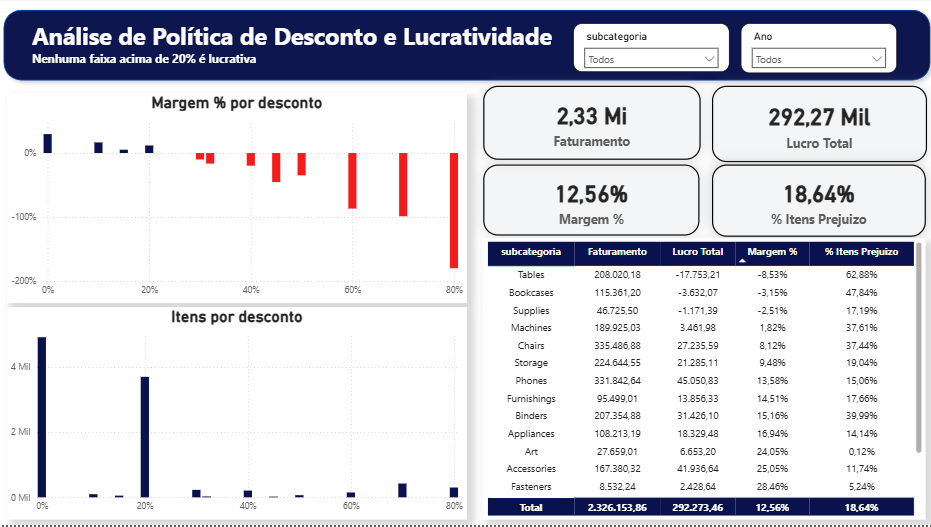

Layout of this report page (visuals, bound fields, positions):
{"tool":"powerbi","page":{"name":"Página 1","canvas":[1280,720],"ordinal":0},"visuals":[{"type":"shape","box":[0,8.5,1280,114],"z":500},{"type":"textbox","box":[42.6,25.5,723.4,102.1],"z":1000},{"type":"card","fields":{"Values":["public vendas.Lucro Total"]},"box":[973.6,120.5,292.8,103.8],"z":2000},{"type":"card","fields":{"Values":["public vendas.Margem %"]},"box":[662.1,228.6,294.5,97],"z":3000},{"type":"card","fields":{"Values":["public vendas.% Itens Prejuizo"]},"box":[973.6,228.6,291.1,98.7],"z":4000},{"type":"card","fields":{"Values":["public vendas.Faturamento"]},"box":[662.1,121,296.2,100.4],"z":5000},{"type":"columnChart","fields":{"Category":["public vendas.desconto"],"Y":["public vendas.Margem %"]},"box":[13.6,131.1,626.4,286],"z":7000},{"type":"columnChart","fields":{"Category":["public vendas.desconto"],"Y":["public vendas.Itens"]},"box":[13.6,422.1,626.4,289.4],"z":8000},{"type":"tableEx","fields":{"Values":["public vendas.subcategoria","public vendas.Faturamento","public vendas.Lucro Total","public vendas.Margem %","public vendas.% Itens Prejuizo"]},"box":[662.1,328.5,602.6,383],"z":9000},{"type":"slicer","fields":{"Values":["public vendas.subcategoria"]},"box":[784.7,35.7,212.8,66.4],"z":10000},{"type":"slicer","fields":{"Values":["public vendas.data_envio.Variation.Hierarquia de datas.Ano"]},"box":[1012.8,35.7,212.8,68.1],"z":11000}]}

Visuals, with their boxes in screenshot pixels (x1, y1, x2, y2), scaled from the page's 1280x720 canvas onto the 931x527 screenshot:
shape: box(0, 6, 930, 90)
textbox: box(31, 19, 557, 93)
card - public vendas.Lucro Total: box(708, 88, 921, 164)
card - public vendas.Margem %: box(482, 167, 696, 238)
card - public vendas.% Itens Prejuizo: box(708, 167, 920, 240)
card - public vendas.Faturamento: box(482, 89, 697, 162)
columnChart - public vendas.desconto x public vendas.Margem %: box(10, 96, 466, 305)
columnChart - public vendas.desconto x public vendas.Itens: box(10, 309, 466, 521)
tableEx - public vendas.subcategoria x public vendas.Faturamento: box(482, 240, 920, 521)
slicer - public vendas.subcategoria: box(571, 26, 726, 75)
slicer - public vendas.data_envio.Variation.Hierarquia de datas.Ano: box(737, 26, 891, 76)
